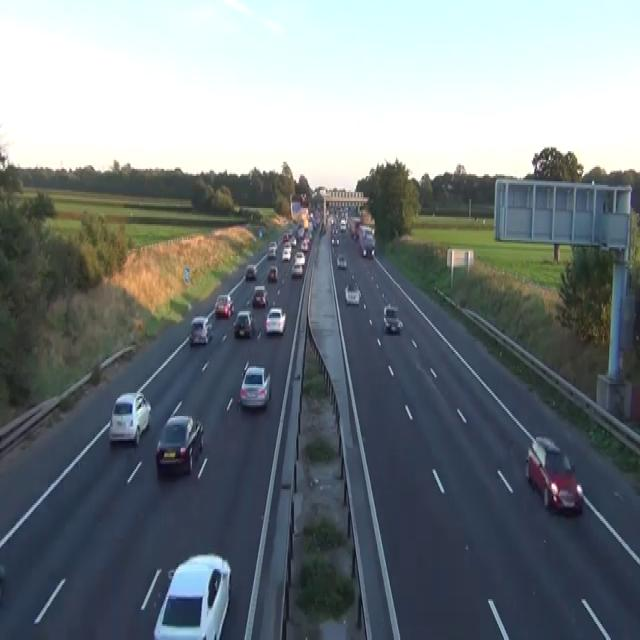Car: (153, 553, 231, 638), (524, 436, 583, 514), (155, 414, 203, 476), (108, 391, 151, 445), (238, 363, 271, 409), (188, 315, 212, 345), (233, 309, 254, 338), (265, 306, 286, 334), (383, 304, 402, 334), (214, 294, 234, 318), (252, 284, 268, 308), (344, 283, 360, 304), (290, 262, 303, 278), (330, 222, 339, 245), (0, 564, 5, 604), (245, 263, 257, 279), (267, 265, 278, 281), (336, 254, 347, 268), (294, 251, 305, 265), (281, 247, 291, 261), (267, 245, 276, 258), (300, 238, 309, 251), (300, 192, 308, 206), (303, 229, 312, 240), (331, 233, 339, 245), (339, 219, 346, 231), (297, 224, 304, 236), (320, 222, 326, 235), (282, 231, 289, 242), (269, 240, 277, 249), (290, 237, 296, 246), (287, 230, 292, 238), (258, 228, 262, 236), (309, 212, 313, 218)
Truck: (358, 224, 375, 258)
